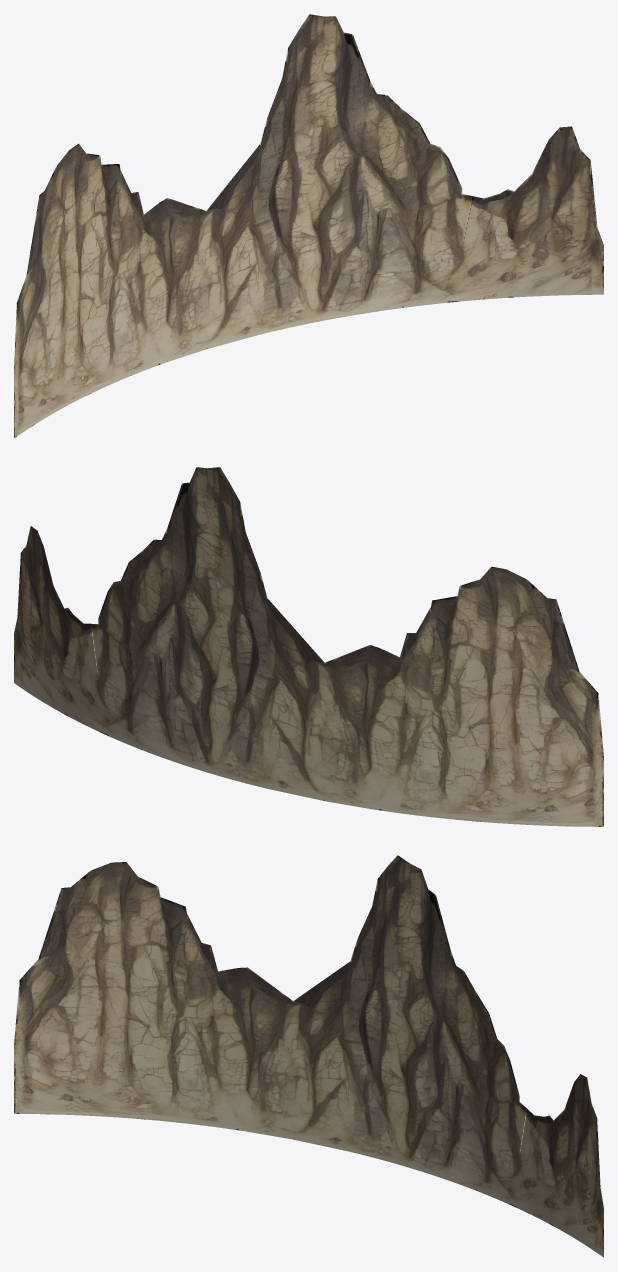
Rendered from _0723161902_texture.fbx.
3 views of the same model, one above another, from view 1: azimuth 30°, elevation 25°; view 2: azimuth 150°, elevation 25°; view 3: azimuth 330°, elevation 25° (orthographic).
Visible parts, largest first — view 1: input; view 2: input; view 3: input.
Boxes of the visible parts, <box> form: input: <box>14,14,603,438</box>; input: <box>14,467,603,826</box>; input: <box>14,855,603,1257</box>.
Size of the model in its own units: 200 by 100 by 26.5.
Materials: 1 (1 with a texture image).
